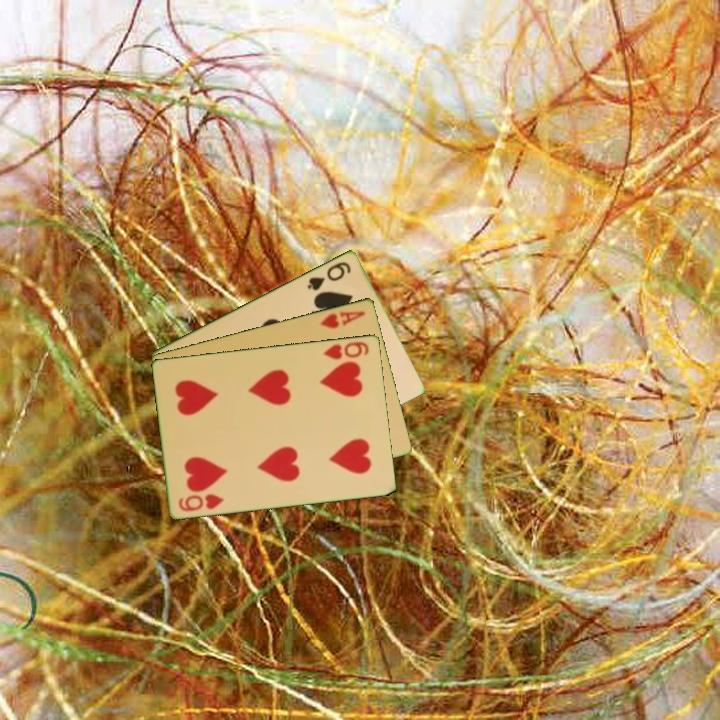6h: (320, 338, 372, 362), (175, 490, 227, 514)
6s: (304, 258, 354, 293)
Ah: (317, 307, 368, 331)
